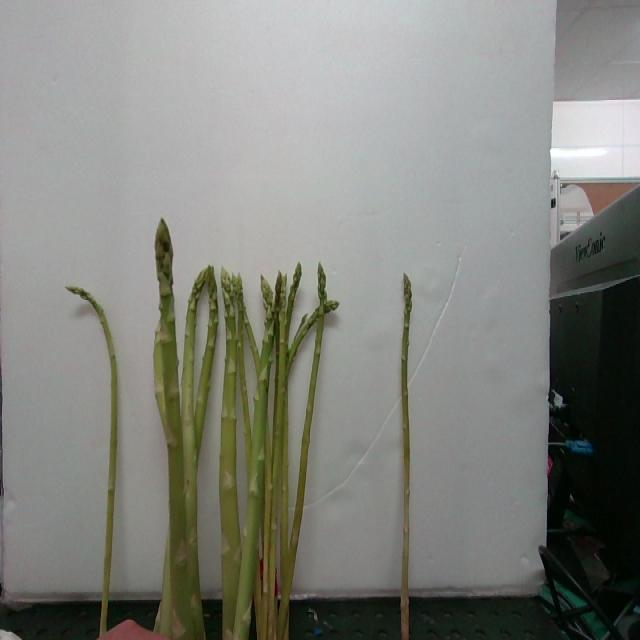aspargus: (154, 219, 204, 640), (69, 288, 116, 631), (400, 276, 419, 640)
